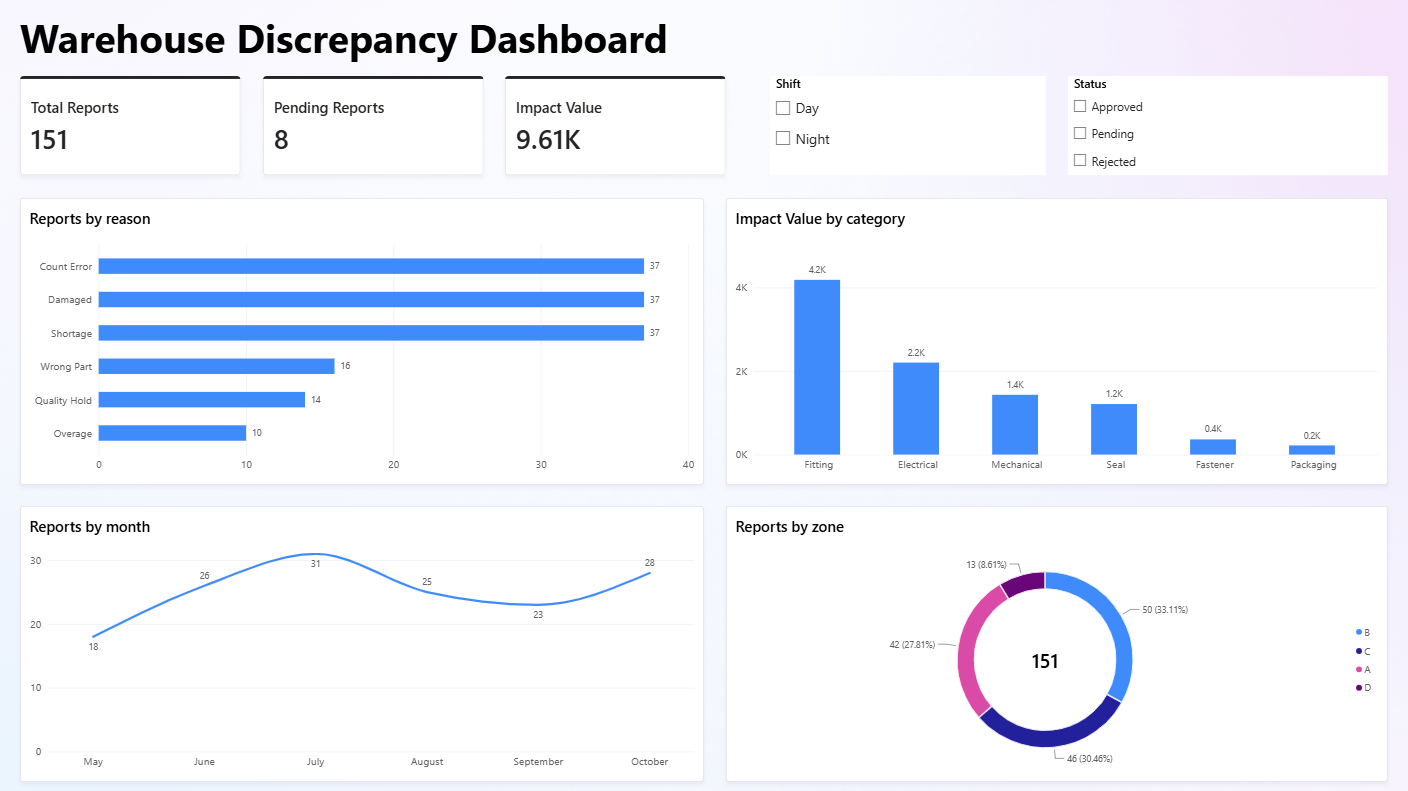

Layout of this report page (visuals, bound fields, positions):
{"tool":"powerbi","page":{"name":"Overview","canvas":[1920,1080],"ordinal":0},"visuals":[{"type":"cardVisual","fields":{"Data":["Reports.Total Reports"]},"box":[30,105,300,135],"z":0},{"type":"cardVisual","fields":{"Data":["Reports.Pending Reports"]},"box":[360,105,300,135],"z":1000},{"type":"cardVisual","fields":{"Data":["Reports.Impact Value"]},"box":[690,105,300,135],"z":2000},{"type":"clusteredBarChart","title":"Reports by reason","fields":{"Category":["Reasons.Reason"],"Y":["Reports.Total Reports"]},"box":[30,270,930,390],"z":3000},{"type":"clusteredColumnChart","title":"Impact Value by category","fields":{"Category":["Parts.Category"],"Y":["Reports.Impact Value"]},"box":[990,270,900,390],"z":4000},{"type":"donutChart","title":"Reports by zone","fields":{"Category":["Locations.Zone"],"Y":["Reports.Total Reports"]},"box":[990,690,900,375],"z":5000},{"type":"lineChart","title":"Reports by month","fields":{"Category":["Reports.ReportDate.Variation.Date Hierarchy.Month"],"Y":["Reports.Total Reports"]},"box":[30,690,930,375],"z":6000},{"type":"slicer","fields":{"Values":["Reports.Shift"]},"box":[1050,105,375,135],"z":7000},{"type":"slicer","fields":{"Values":["Reports.Status"]},"box":[1455,105,435,135],"z":8000},{"type":"textbox","box":[30,15,990,75],"z":8001}]}

Visuals, with their boxes in screenshot pixels (x1, y1, x2, y2), scaled from the page's 1920x1080 canvas onto the 1408x791 screenshot:
cardVisual - Reports.Total Reports: x1=22 y1=77 x2=242 y2=176
cardVisual - Reports.Pending Reports: x1=264 y1=77 x2=484 y2=176
cardVisual - Reports.Impact Value: x1=506 y1=77 x2=726 y2=176
"Reports by reason" clusteredBarChart: x1=22 y1=198 x2=704 y2=483
"Impact Value by category" clusteredColumnChart: x1=726 y1=198 x2=1386 y2=483
"Reports by zone" donutChart: x1=726 y1=505 x2=1386 y2=780
"Reports by month" lineChart: x1=22 y1=505 x2=704 y2=780
slicer - Reports.Shift: x1=770 y1=77 x2=1045 y2=176
slicer - Reports.Status: x1=1067 y1=77 x2=1386 y2=176
textbox: x1=22 y1=11 x2=748 y2=66
